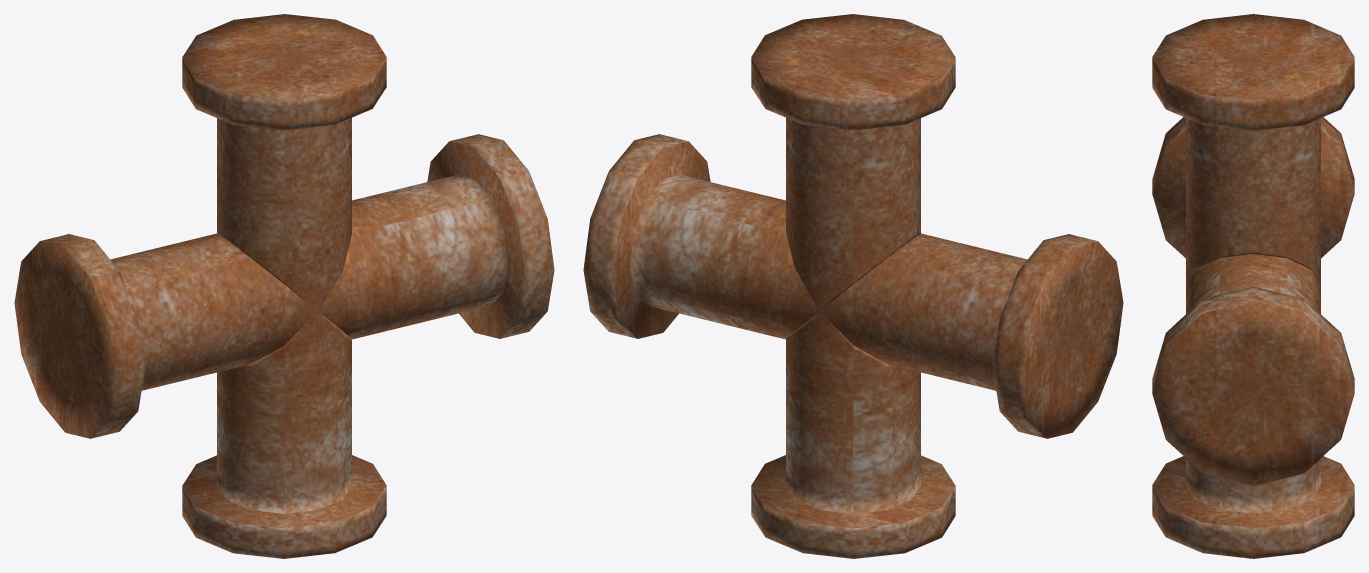
The model's file is pipe.cross.shape.fbx.
3 renders of one model, left to right at view 1: azimuth 30°, elevation 25°; view 2: azimuth 150°, elevation 25°; view 3: azimuth 270°, elevation 25°, orthographic.
Visible parts, largest first — view 1: Cylinder, Cylinder.001; view 2: Cylinder, Cylinder.001; view 3: Cylinder.001, Cylinder.
Part boxes in pixels (x1,y1,x2,y2): Cylinder: [14, 134, 554, 438]; Cylinder.001: [182, 14, 386, 558]; Cylinder: [583, 134, 1123, 438]; Cylinder.001: [751, 14, 955, 558]; Cylinder.001: [1152, 14, 1354, 558]; Cylinder: [1152, 117, 1354, 485].
Size of the model in its own units: 150 by 150 by 60.03.
1 material, 1 textured.
